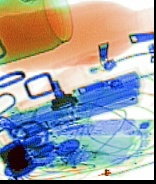powerbank: (0, 70, 141, 136)
